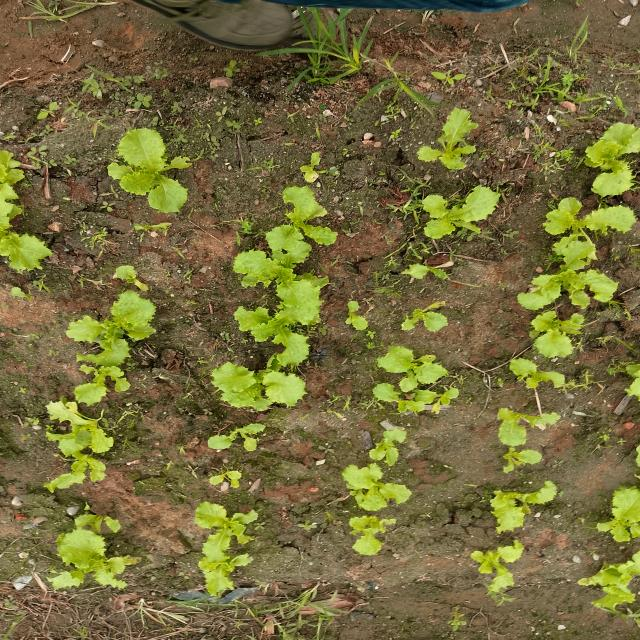Lettuce: (92, 122, 206, 220), (520, 271, 622, 361), (0, 155, 58, 284), (67, 292, 161, 366), (405, 182, 508, 248), (471, 475, 576, 538), (36, 532, 142, 590), (260, 187, 337, 266), (332, 448, 429, 508), (407, 102, 482, 179), (365, 348, 449, 412), (237, 305, 317, 366), (439, 542, 532, 592), (555, 196, 627, 260), (582, 545, 640, 617), (219, 359, 296, 412), (44, 404, 114, 462), (589, 116, 640, 195), (192, 506, 258, 564), (66, 364, 133, 417), (331, 497, 387, 560), (504, 400, 558, 464), (198, 548, 260, 599), (379, 254, 454, 291), (594, 486, 640, 544), (38, 457, 106, 494), (613, 348, 640, 415), (396, 308, 452, 331)
